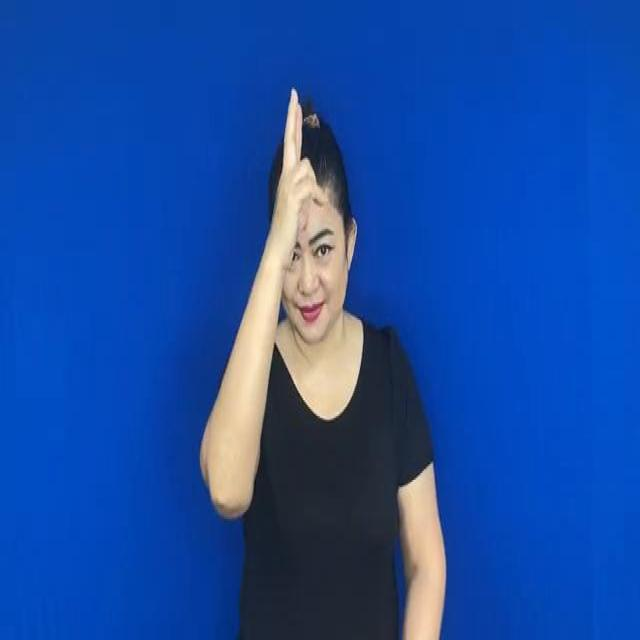crab: (277, 81, 330, 239)
